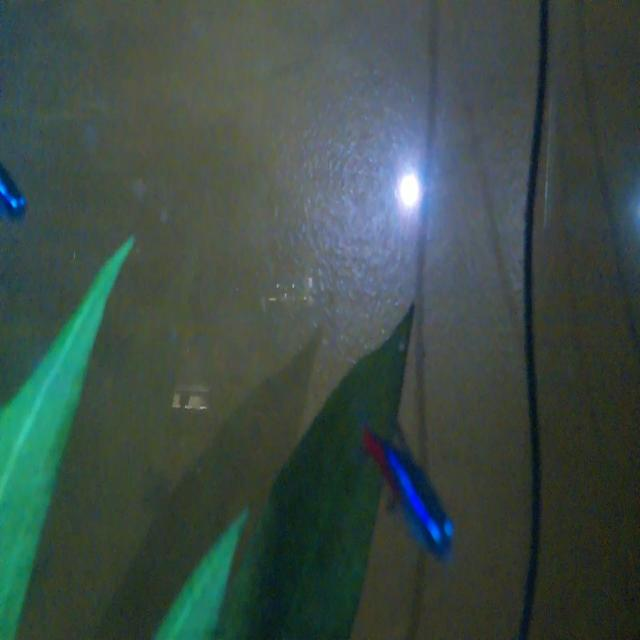fish: (357, 403, 459, 570)
